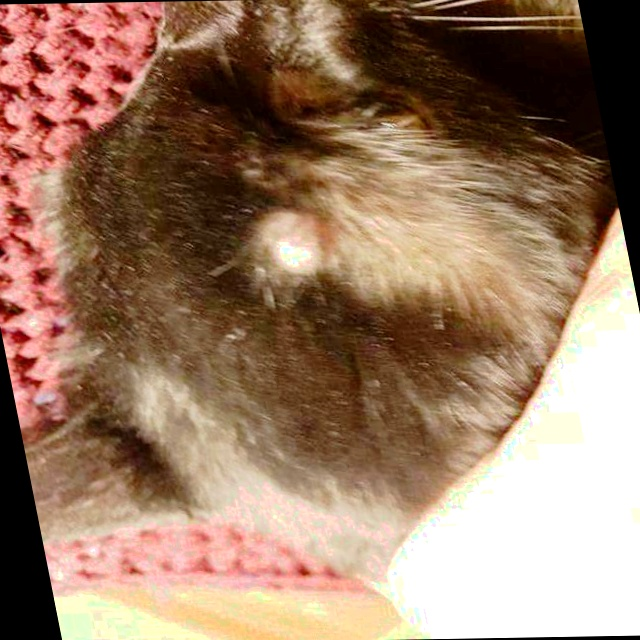lump_and_bump: (252, 205, 331, 288)
